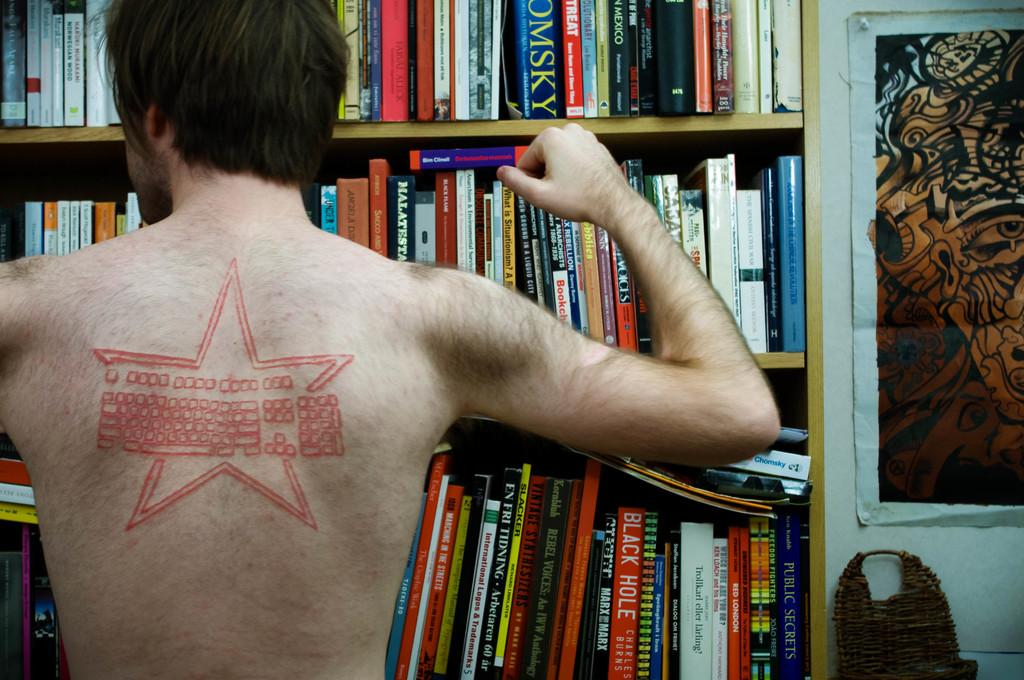Luggage-and-bags: (830, 547, 978, 678)
